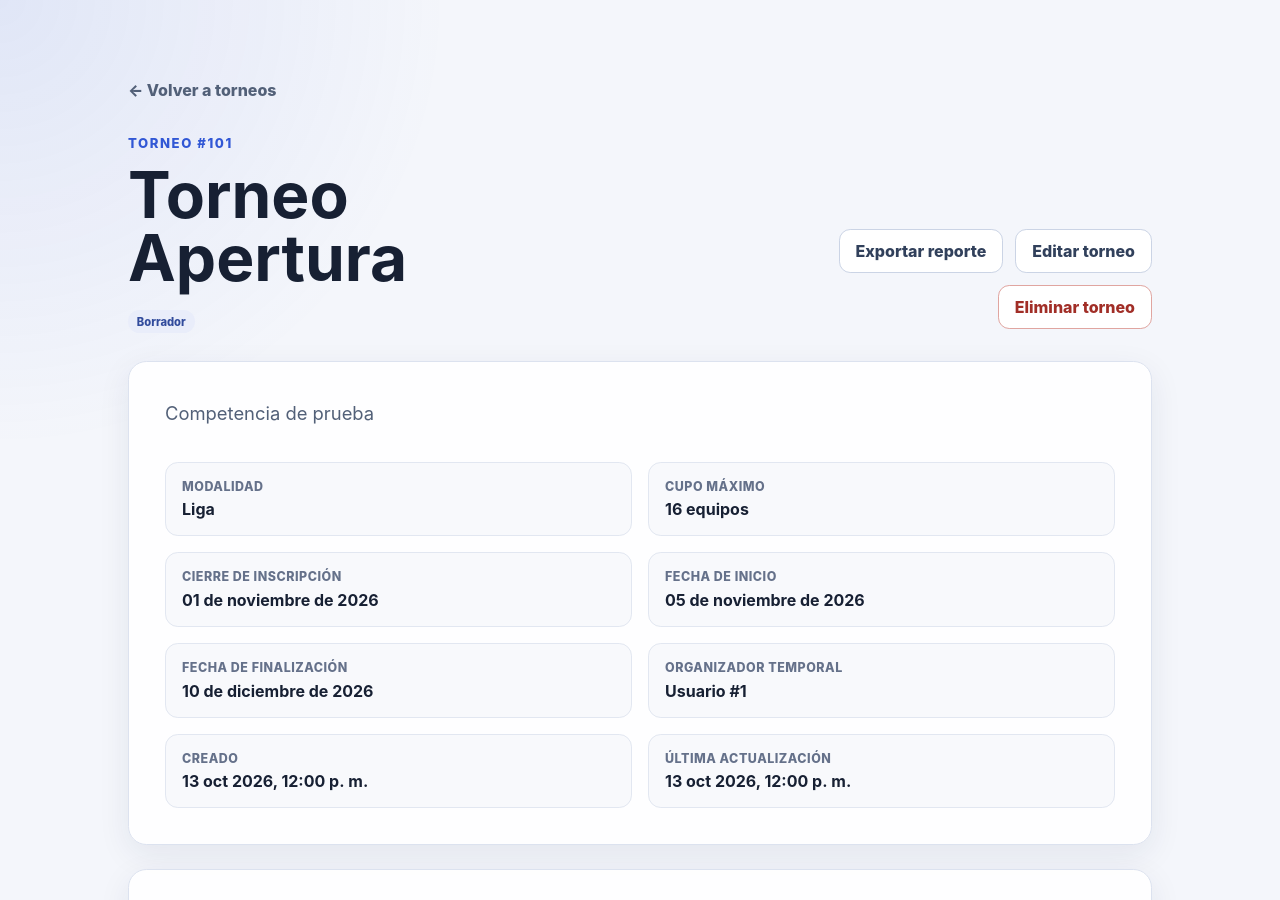
Scenario: TournamentDetailPage › descarga el reporte exportable del torneo
Click the button "Exportar reporte" at (921, 251), box [838,229,1003,273]
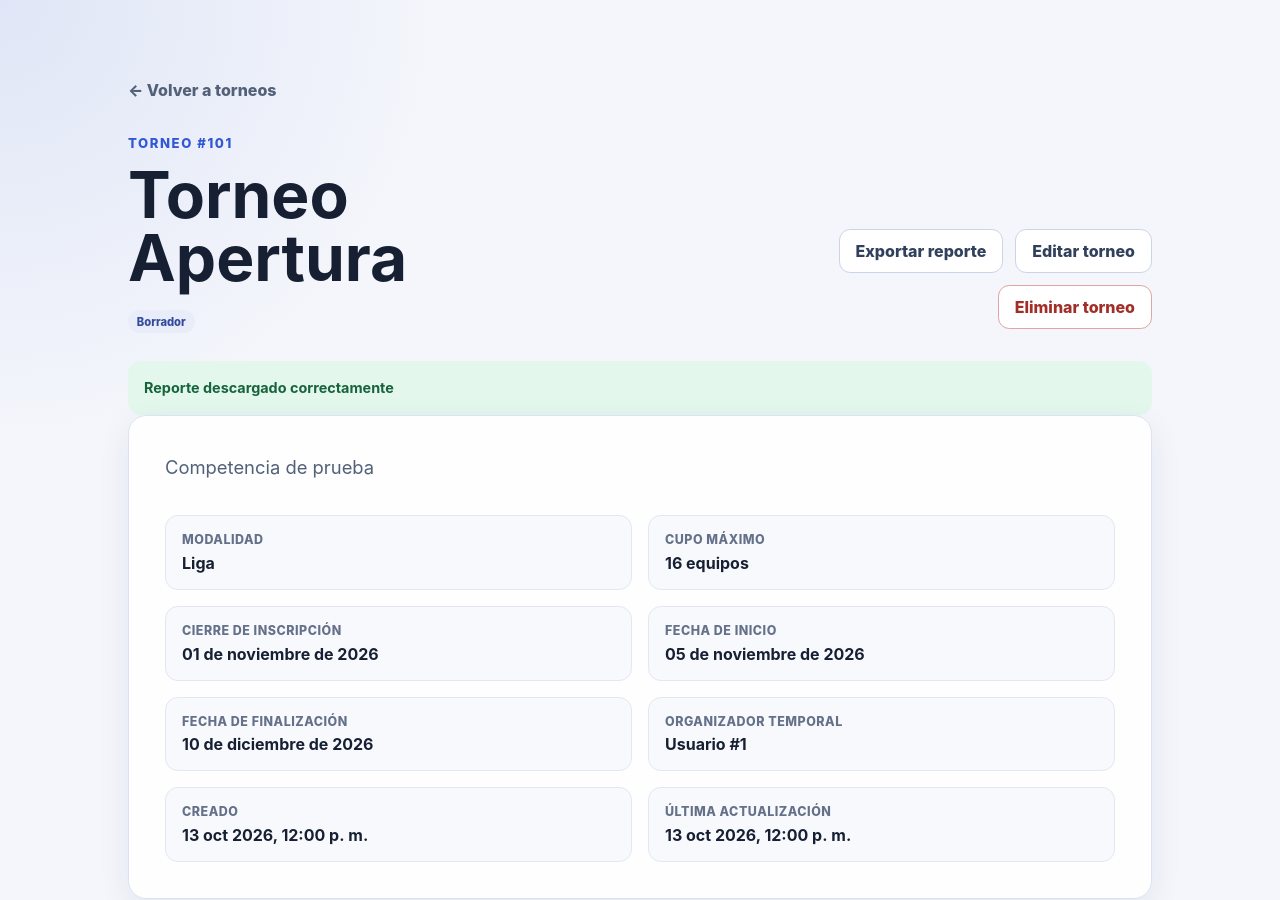
Check: the text "Reporte descargado correctamente" is shown, box [144,379,394,396]
